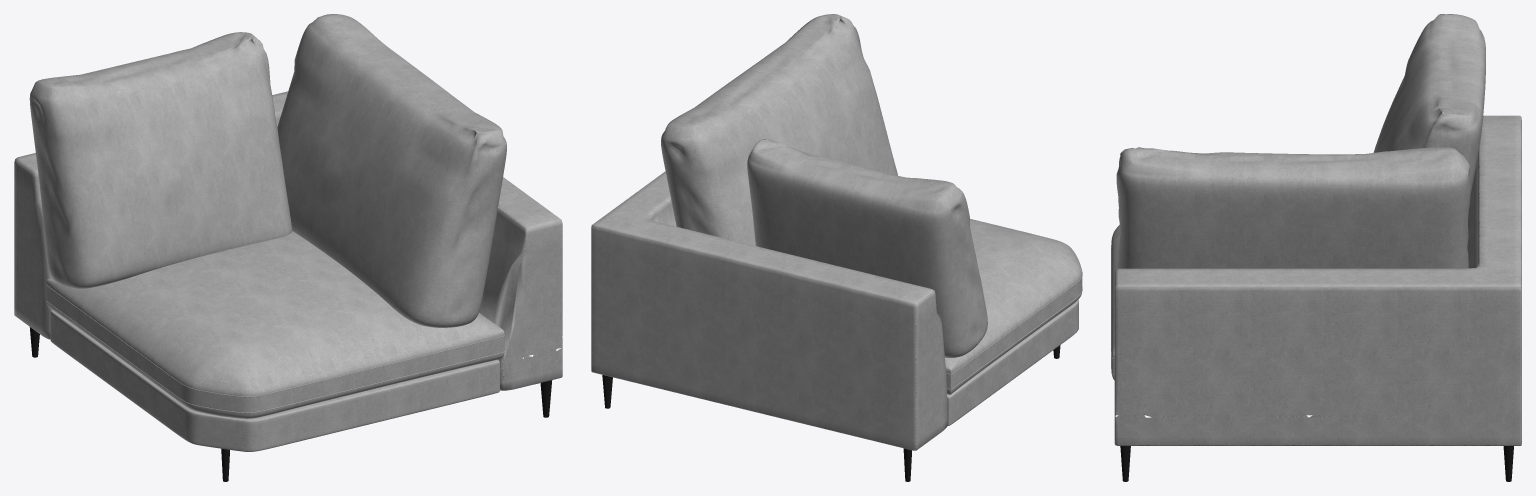
The model's file is corner.glb.
3 views of the same model, side by side, from view 1: azimuth 30°, elevation 25°; view 2: azimuth 150°, elevation 25°; view 3: azimuth 270°, elevation 25° (orthographic). The views are drawn at different scales.
Visible parts, largest first — view 1: almofada costa 2 (×2), Almofada de assento#1, object 1, estrutura 1, D=~ 0,00 m (×2); view 2: object 1, almofada costa 2 (×2), Almofada de assento#1, estrutura 1; view 3: object 1, almofada costa 2 (×2), Almofada de assento#1.
Boxes of the visible parts, x1,y1,x2,y2 form: almofada costa 2 (×2): [29, 14, 506, 327]; Almofada de assento#1: [46, 231, 504, 418]; object 1: [14, 91, 562, 390]; estrutura 1: [50, 310, 499, 451]; D=~ 0,00 m (×2): [46, 284, 504, 413]; object 1: [591, 171, 947, 450]; almofada costa 2 (×2): [661, 14, 987, 357]; Almofada de assento#1: [945, 219, 1082, 394]; estrutura 1: [947, 299, 1078, 425]; object 1: [1114, 115, 1521, 445]; almofada costa 2 (×2): [1116, 14, 1485, 268]; Almofada de assento#1: [1111, 225, 1120, 380].
Size of the model in its own units: 1.16 by 0.9155 by 1.13.
2 materials, 1 textured.
